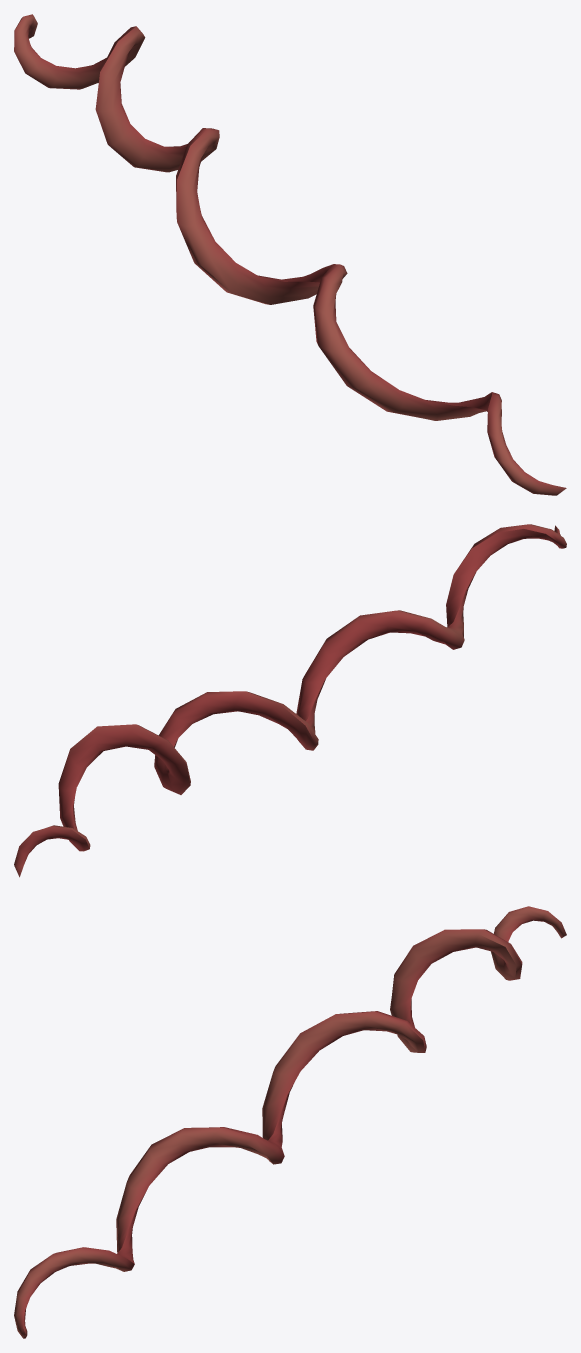
The model's file is microscopic-bacteria-corkscrew-bacterium_v2.glb.
3 renders of one model, top to bottom at view 1: azimuth 30°, elevation 25°; view 2: azimuth 150°, elevation 25°; view 3: azimuth 330°, elevation 25°, orthographic. The views are drawn at different scales.
Visible parts, largest first — view 1: Corkscrew Bacterium_v2; view 2: Corkscrew Bacterium_v2; view 3: Corkscrew Bacterium_v2.
Boxes of the visible parts, bbox=[...] form: Corkscrew Bacterium_v2: bbox=[14, 14, 566, 495]; Corkscrew Bacterium_v2: bbox=[14, 524, 566, 877]; Corkscrew Bacterium_v2: bbox=[14, 906, 566, 1338].
Bounding box in the file's own units: 0.0188 × 0.0198 × 0.15.
